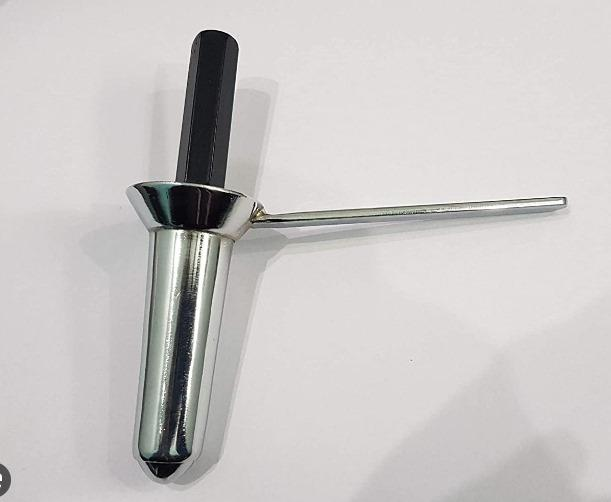Protoscope: (109, 19, 575, 483)
